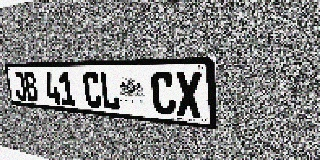1: (57, 72, 76, 106)
4: (44, 72, 61, 105)
B: (23, 72, 39, 102)
C: (150, 72, 176, 116), (82, 72, 102, 109)
J: (12, 72, 28, 101)
L: (99, 72, 121, 110)
X: (175, 72, 203, 119)
